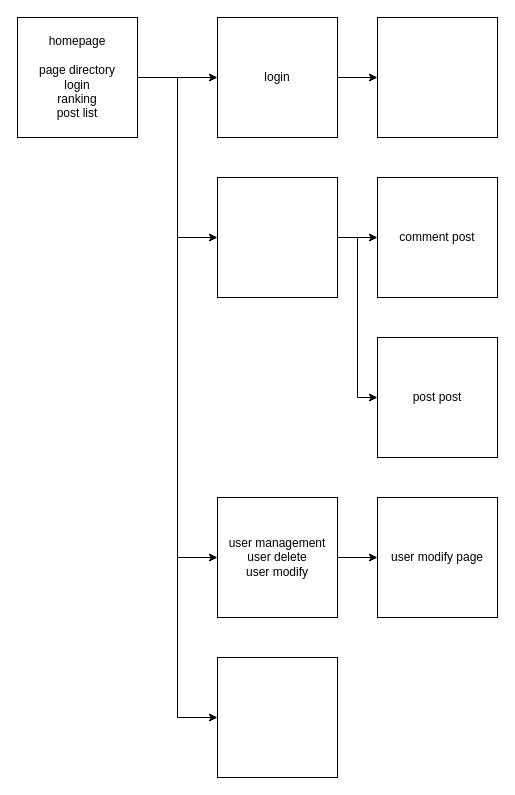
Image size: 515x795. Some labels were removed from this diagram. Here are the shapes that lost their labels. From the top down, the centre of each, then its label:
(437,77): register
(277,237): post detail comments post views post likes
(277,717): about
